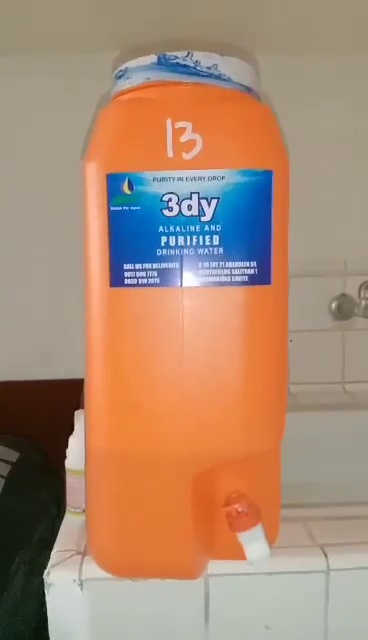gallon: (84, 50, 295, 570)
